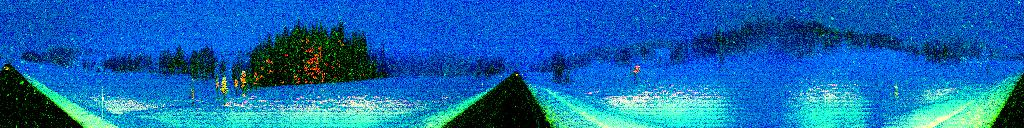pole: (100, 84, 105, 120)
